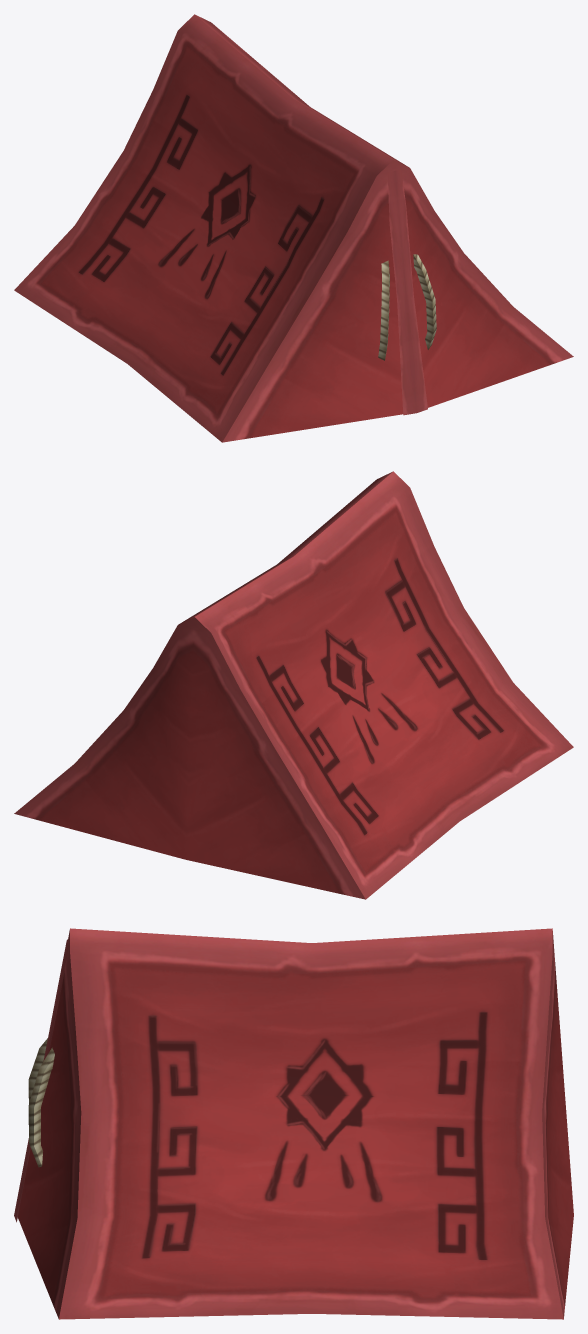
Rendered from tent_red_04.fbx.
3 renders of one model, top to bottom at view 1: azimuth 30°, elevation 25°; view 2: azimuth 150°, elevation 25°; view 3: azimuth 270°, elevation 25°, orthographic. The views are drawn at different scales.
Parts seen in each view (by area): view 1: tent_red_04:Mesh; view 2: tent_red_04:Mesh; view 3: tent_red_04:Mesh.
Boxes of the visible parts, box(x1,y1,x2,y2) form: tent_red_04:Mesh: box(14, 14, 573, 442); tent_red_04:Mesh: box(14, 471, 573, 899); tent_red_04:Mesh: box(14, 928, 573, 1319).
Bounding box in the file's own units: 3.83 × 2.46 × 4.35.
